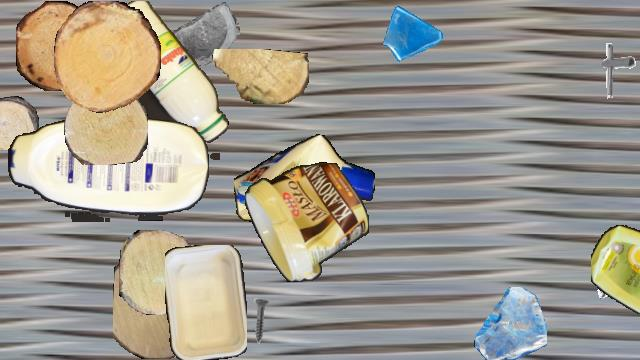glass: (474, 287, 546, 359), (168, 1, 240, 73), (381, 1, 445, 65)
metal: (178, 247, 238, 307), (584, 40, 640, 100), (236, 297, 284, 345), (591, 255, 637, 301)
plastic: (8, 118, 208, 222), (100, 1, 230, 159), (244, 162, 368, 282), (234, 133, 374, 229), (165, 245, 247, 359), (591, 221, 640, 337), (0, 176, 3, 280)
wood: (54, 1, 160, 113), (113, 247, 201, 359), (16, 1, 98, 91), (119, 230, 199, 314), (64, 84, 148, 164), (211, 49, 309, 103), (0, 96, 39, 150)
